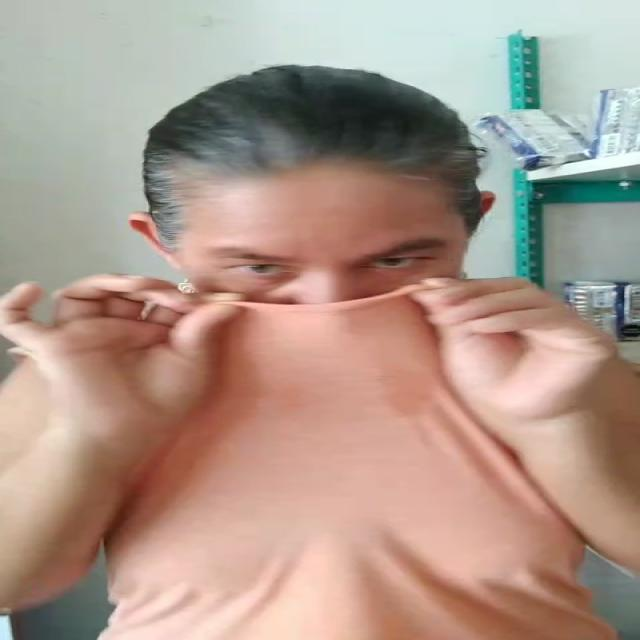8_ropa_rostro: (118, 280, 519, 408)
